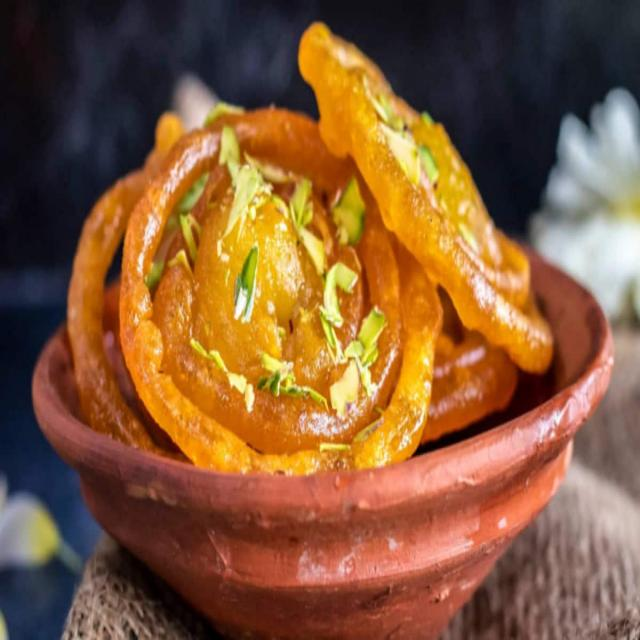jalebi: (58, 35, 570, 476)
